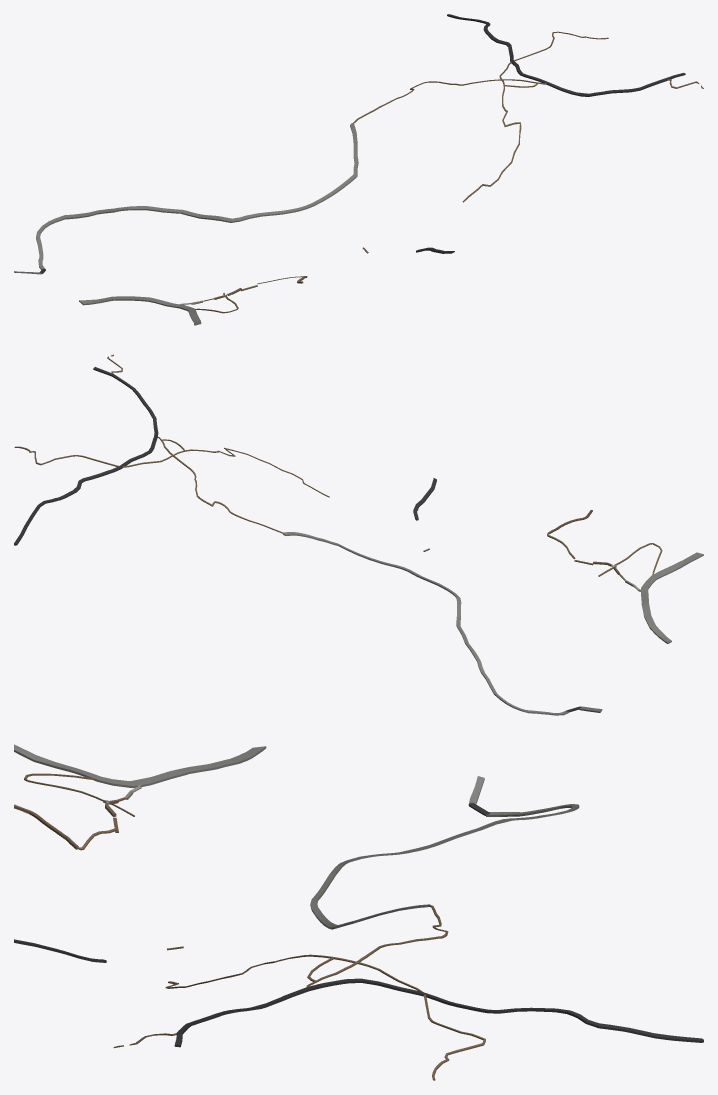
The picture shows the model from 3 angles, top to bottom: view 1: azimuth 30°, elevation 25°; view 2: azimuth 150°, elevation 25°; view 3: azimuth 270°, elevation 25°; orthographic projection. The views are drawn at different scales.
Size of the model in its own units: 587 by 128 by 360.
